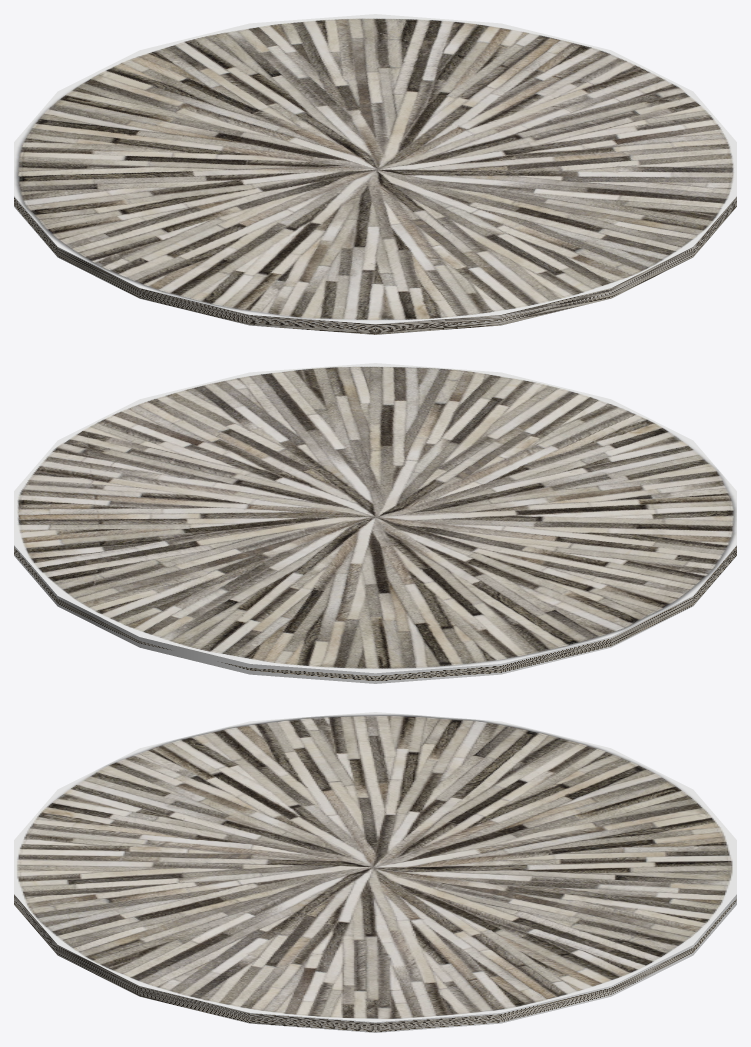
The model's file is Circular carpets.FBX.
The picture shows the model from 3 angles, top to bottom: view 1: azimuth 30°, elevation 25°; view 2: azimuth 150°, elevation 25°; view 3: azimuth 270°, elevation 25°; orthographic projection.
Parts seen in each view (by area): view 1: Circular carpets; view 2: Circular carpets; view 3: Circular carpets.
Boxes of the visible parts, x1=… form: Circular carpets: x1=14, y1=14, x2=736, y2=334; Circular carpets: x1=14, y1=363, x2=736, y2=683; Circular carpets: x1=14, y1=712, x2=736, y2=1032.
Size of the model in its own units: 132 by 2.13 by 130.
1 material, 1 textured.
